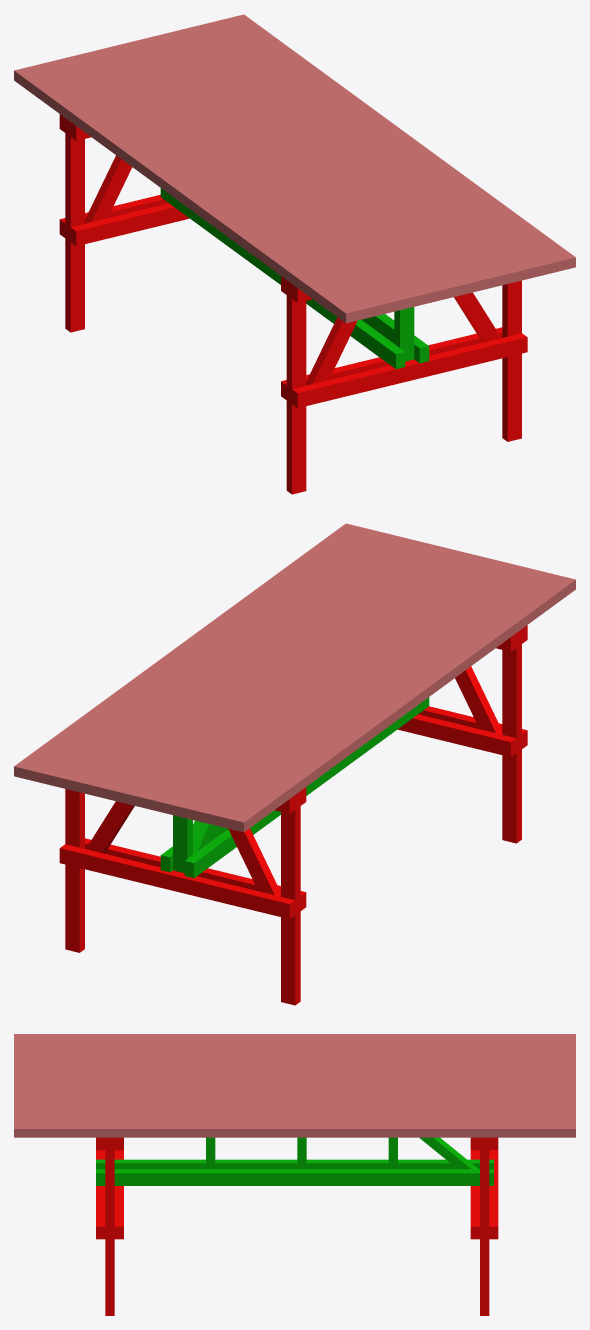
Rendered from result.glb.
3 views of the same model, one above another, from view 1: azimuth 30°, elevation 25°; view 2: azimuth 150°, elevation 25°; view 3: azimuth 270°, elevation 25° (orthographic). The views are drawn at different scales.
Parts seen in each view (by area): view 1: c0121b9c-84e3-484b-9bab-a976e18243b0__Box, 6a919d86-c20b-4938-8b92-9951a312a33f__undefined, 92579591-4483-4095-a203-a10cdd9f3825__undefined, bb3d9660-9269-4665-b333-30d67b822d29__undefined, 27b4ae08-85aa-493b-8076-fac867541af9__undefined, c104b6e2-be83-423c-ad35-7f252a754d6e__undefined, f9648753-0d85-4ef4-8982-d382f5091de2__undefined, 401cc184-7e53-462f-8b84-bbb77fe77861__undefined, b5c2c74d-3b89-4d7d-a80f-bbe9f1de6569__undefined, 79793464-6b3e-4fba-b059-59d98980f080__undefined, 6be943dd-a53e-4631-8561-73520de68e96__undefined, 69abdca7-e47a-43f0-8715-f16fd76c7c63__undefined (+17 smaller); view 2: c0121b9c-84e3-484b-9bab-a976e18243b0__Box, 92579591-4483-4095-a203-a10cdd9f3825__undefined, c104b6e2-be83-423c-ad35-7f252a754d6e__undefined, f9648753-0d85-4ef4-8982-d382f5091de2__undefined, 401cc184-7e53-462f-8b84-bbb77fe77861__undefined, 542384b2-ffeb-4ab6-bf07-34e68ad11bed__undefined, 6a919d86-c20b-4938-8b92-9951a312a33f__undefined, bb3d9660-9269-4665-b333-30d67b822d29__undefined, b5c2c74d-3b89-4d7d-a80f-bbe9f1de6569__undefined, 27b4ae08-85aa-493b-8076-fac867541af9__undefined, 6be943dd-a53e-4631-8561-73520de68e96__undefined, 8d8cc6a6-aa7f-4cd4-9a32-f08f1e59e0f4__undefined (+16 smaller); view 3: f9648753-0d85-4ef4-8982-d382f5091de2__undefined, 1102a15d-f370-4c6b-b2ea-d681c8497efe__strutH, 542384b2-ffeb-4ab6-bf07-34e68ad11bed__undefined, 6a919d86-c20b-4938-8b92-9951a312a33f__undefined, 7d7be8bc-5fb4-484d-bfd1-29b0dba77313__undefined, b5c2c74d-3b89-4d7d-a80f-bbe9f1de6569__undefined, 27b4ae08-85aa-493b-8076-fac867541af9__undefined, 79793464-6b3e-4fba-b059-59d98980f080__undefined, 6be943dd-a53e-4631-8561-73520de68e96__undefined, c104b6e2-be83-423c-ad35-7f252a754d6e__undefined, 8d8cc6a6-aa7f-4cd4-9a32-f08f1e59e0f4__undefined, 89e2587c-8669-42c9-9b2d-bc2df708cdb0__strutH (+13 smaller).
Part boxes in pixels (x1=…): c0121b9c-84e3-484b-9bab-a976e18243b0__Box: x1=14, y1=67, x2=360, y2=323; 6a919d86-c20b-4938-8b92-9951a312a33f__undefined: x1=115, y1=42, x2=460, y2=298; 92579591-4483-4095-a203-a10cdd9f3825__undefined: x1=29, y1=63, x2=374, y2=319; bb3d9660-9269-4665-b333-30d67b822d29__undefined: x1=72, y1=53, x2=417, y2=309; 27b4ae08-85aa-493b-8076-fac867541af9__undefined: x1=158, y1=32, x2=503, y2=288; c104b6e2-be83-423c-ad35-7f252a754d6e__undefined: x1=201, y1=21, x2=547, y2=277; f9648753-0d85-4ef4-8982-d382f5091de2__undefined: x1=230, y1=14, x2=575, y2=270; 401cc184-7e53-462f-8b84-bbb77fe77861__undefined: x1=57, y1=56, x2=403, y2=312; b5c2c74d-3b89-4d7d-a80f-bbe9f1de6569__undefined: x1=144, y1=35, x2=489, y2=291; 79793464-6b3e-4fba-b059-59d98980f080__undefined: x1=172, y1=28, x2=518, y2=284; 6be943dd-a53e-4631-8561-73520de68e96__undefined: x1=187, y1=25, x2=532, y2=281; 69abdca7-e47a-43f0-8715-f16fd76c7c63__undefined: x1=86, y1=49, x2=432, y2=305; c0121b9c-84e3-484b-9bab-a976e18243b0__Box: x1=229, y1=576, x2=575, y2=832; 92579591-4483-4095-a203-a10cdd9f3825__undefined: x1=215, y1=572, x2=560, y2=828; c104b6e2-be83-423c-ad35-7f252a754d6e__undefined: x1=42, y1=530, x2=388, y2=786; f9648753-0d85-4ef4-8982-d382f5091de2__undefined: x1=14, y1=523, x2=359, y2=779; 401cc184-7e53-462f-8b84-bbb77fe77861__undefined: x1=186, y1=565, x2=532, y2=821; 542384b2-ffeb-4ab6-bf07-34e68ad11bed__undefined: x1=143, y1=555, x2=489, y2=811; 6a919d86-c20b-4938-8b92-9951a312a33f__undefined: x1=129, y1=551, x2=474, y2=807; bb3d9660-9269-4665-b333-30d67b822d29__undefined: x1=172, y1=562, x2=517, y2=818; b5c2c74d-3b89-4d7d-a80f-bbe9f1de6569__undefined: x1=100, y1=544, x2=445, y2=800; 27b4ae08-85aa-493b-8076-fac867541af9__undefined: x1=86, y1=541, x2=431, y2=797; 6be943dd-a53e-4631-8561-73520de68e96__undefined: x1=57, y1=534, x2=402, y2=790; 8d8cc6a6-aa7f-4cd4-9a32-f08f1e59e0f4__undefined: x1=28, y1=527, x2=374, y2=783; f9648753-0d85-4ef4-8982-d382f5091de2__undefined: x1=14, y1=1123, x2=575, y2=1137; 1102a15d-f370-4c6b-b2ea-d681c8497efe__strutH: x1=96, y1=1169, x2=493, y2=1185; 542384b2-ffeb-4ab6-bf07-34e68ad11bed__undefined: x1=14, y1=1069, x2=575, y2=1075; 6a919d86-c20b-4938-8b92-9951a312a33f__undefined: x1=14, y1=1075, x2=575, y2=1081; 7d7be8bc-5fb4-484d-bfd1-29b0dba77313__undefined: x1=14, y1=1081, x2=575, y2=1087; b5c2c74d-3b89-4d7d-a80f-bbe9f1de6569__undefined: x1=14, y1=1087, x2=575, y2=1093; 27b4ae08-85aa-493b-8076-fac867541af9__undefined: x1=14, y1=1093, x2=575, y2=1099; 79793464-6b3e-4fba-b059-59d98980f080__undefined: x1=14, y1=1099, x2=575, y2=1105; 6be943dd-a53e-4631-8561-73520de68e96__undefined: x1=14, y1=1105, x2=575, y2=1111; c104b6e2-be83-423c-ad35-7f252a754d6e__undefined: x1=14, y1=1111, x2=575, y2=1117; 8d8cc6a6-aa7f-4cd4-9a32-f08f1e59e0f4__undefined: x1=14, y1=1117, x2=575, y2=1123; 89e2587c-8669-42c9-9b2d-bc2df708cdb0__strutH: x1=96, y1=1159, x2=493, y2=1169.
Bounding box in the file's own units: 800 × 733 × 2000.
